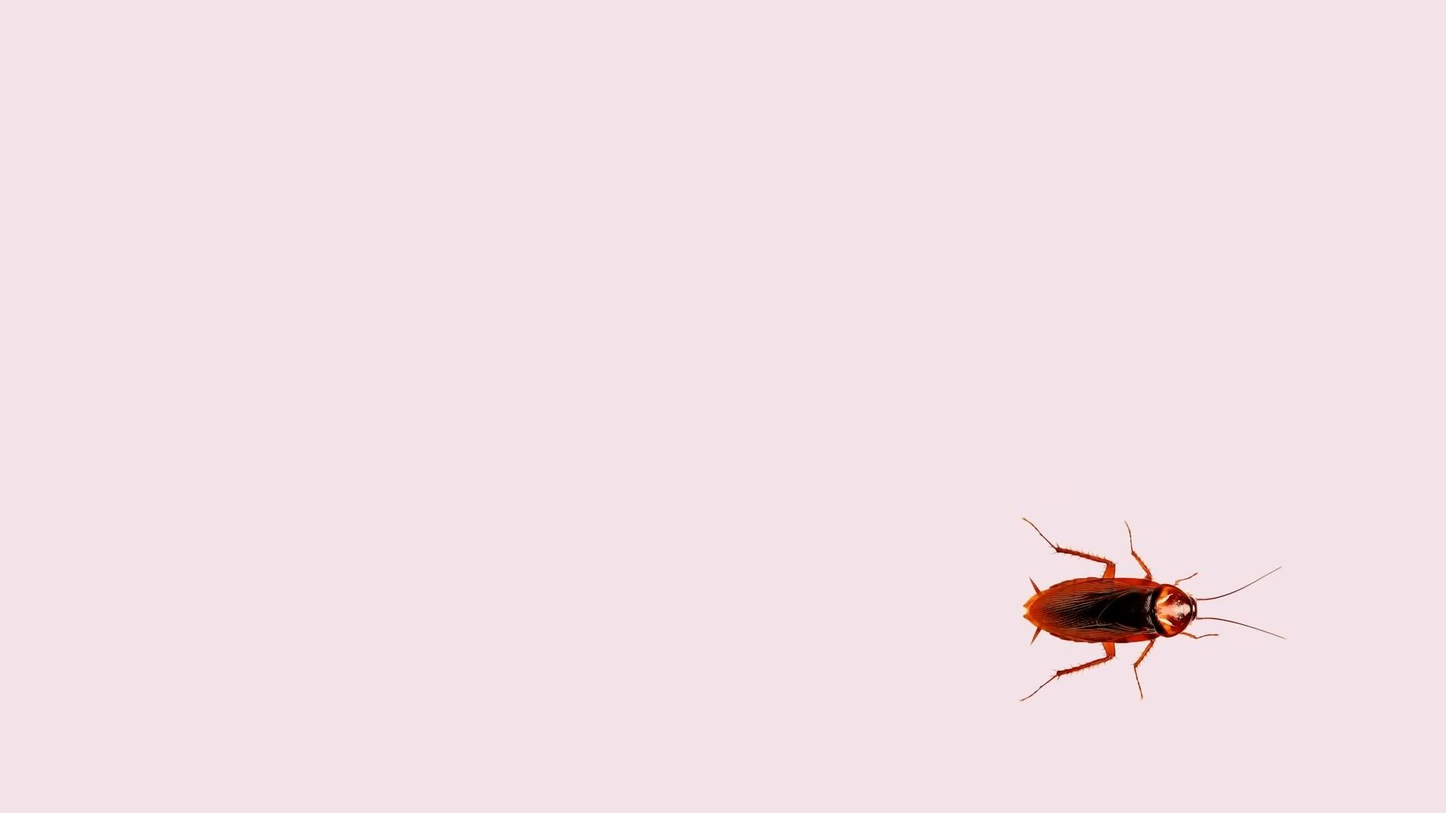cockroach: (1004, 510, 1283, 696)
